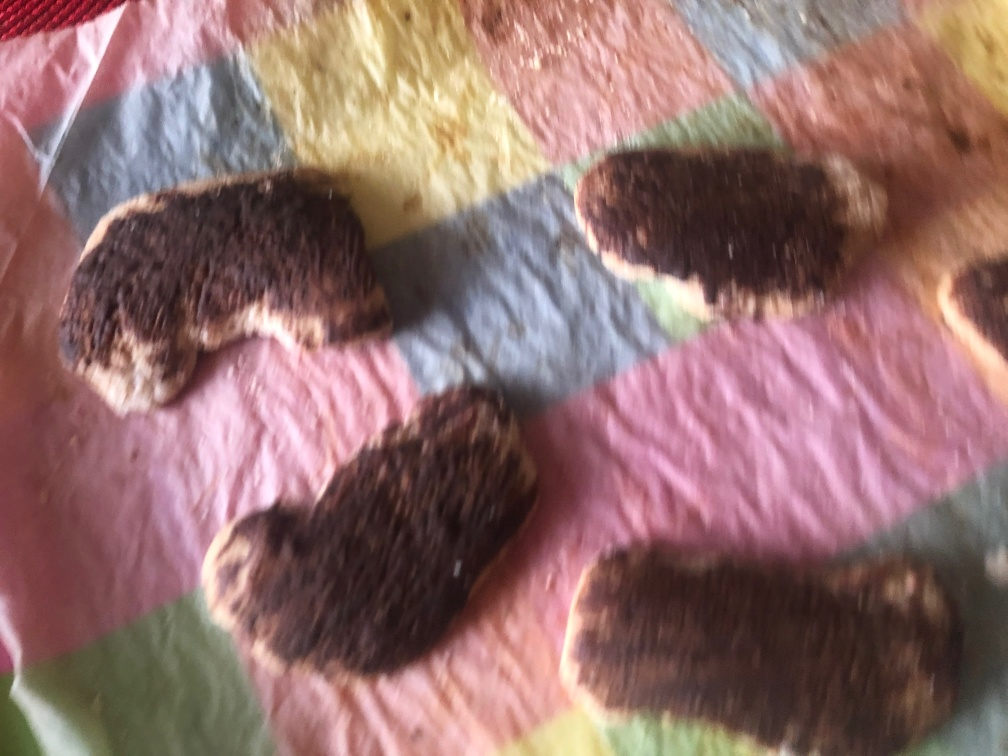weird #1: (198, 378, 550, 681), (555, 532, 958, 756), (51, 163, 384, 419), (568, 137, 891, 328), (932, 236, 1008, 383)
